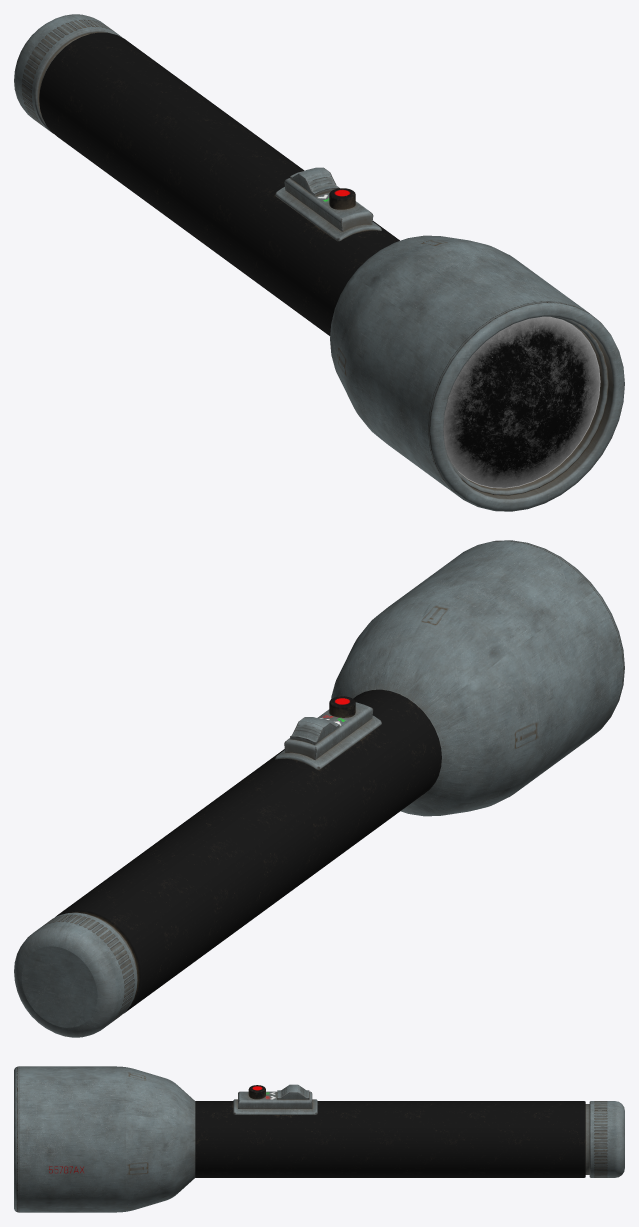
Rendered from Torch.fbx.
The picture shows the model from 3 angles, top to bottom: view 1: azimuth 30°, elevation 25°; view 2: azimuth 150°, elevation 25°; view 3: azimuth 270°, elevation 25°; orthographic projection. The views are drawn at different scales.
Visible parts, largest first — view 1: Torch_low, GLASS; view 2: Torch_low; view 3: Torch_low.
Part boxes in pixels (x1,y1,x2,y2): Torch_low: [14, 14, 624, 511]; GLASS: [443, 316, 600, 488]; Torch_low: [14, 540, 624, 1037]; Torch_low: [14, 1066, 624, 1212].
Bounding box in the file's own units: 0.0679 × 0.0679 × 0.2831.
2 materials, 2 textured.
